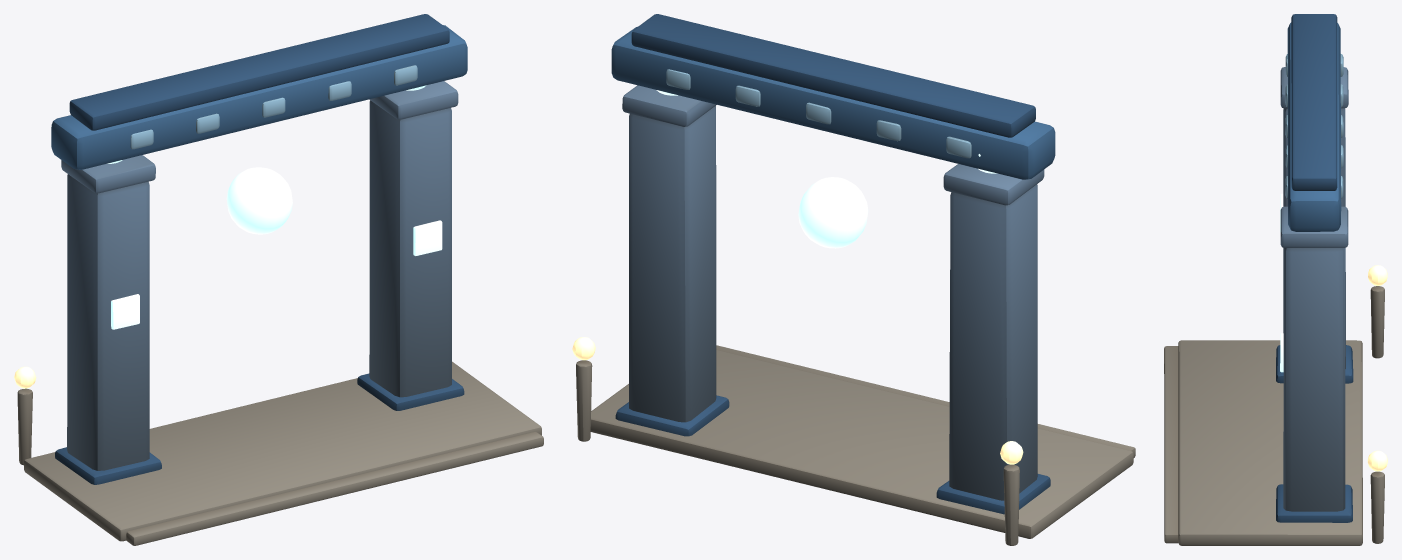
3 renders of one model, left to right at view 1: azimuth 30°, elevation 25°; view 2: azimuth 150°, elevation 25°; view 3: azimuth 270°, elevation 25°, orthographic. The views are drawn at different scales.
Visible parts, largest first — view 1: gate_1a9b0b8a; view 2: gate_1a9b0b8a; view 3: gate_1a9b0b8a.
Part boxes in pixels (x1,y1,x2,y2): gate_1a9b0b8a: (14, 14, 543, 545); gate_1a9b0b8a: (572, 14, 1135, 545); gate_1a9b0b8a: (1164, 14, 1387, 545).
Bounding box in the file's own units: 5.26 × 4.45 × 2.55.
